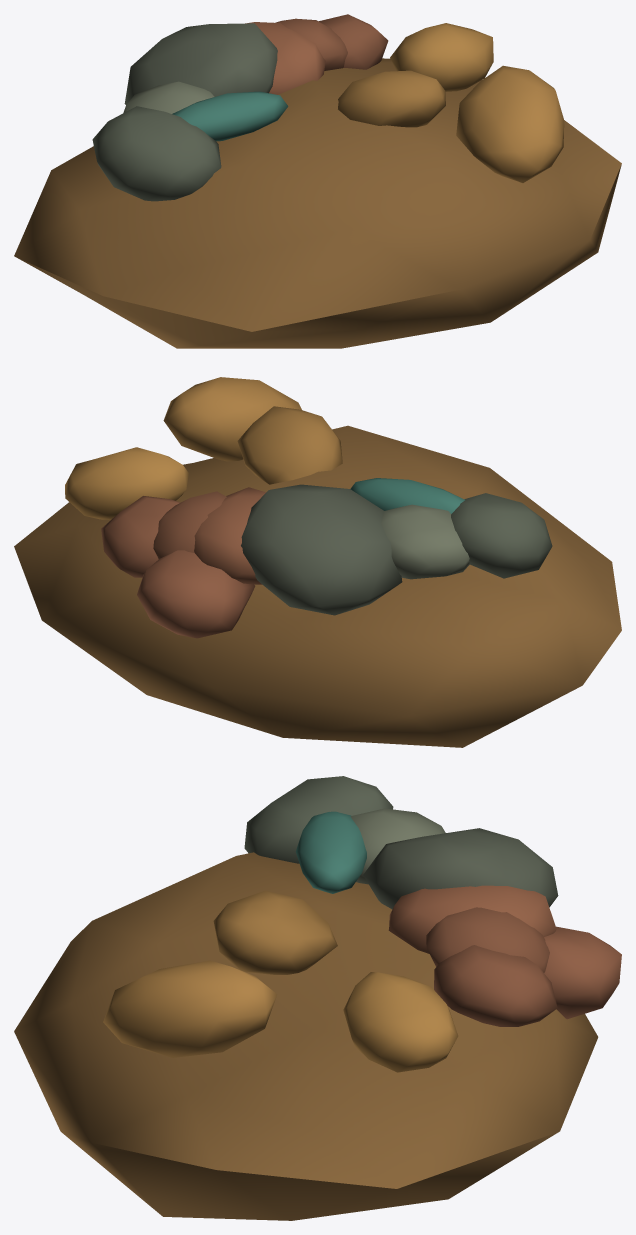
Rendered from ore_heap_b.glb.
3 views of the same model, one above another, from view 1: azimuth 30°, elevation 25°; view 2: azimuth 150°, elevation 25°; view 3: azimuth 270°, elevation 25° (orthographic). The views are drawn at different scales.
Visible parts, largest first — view 1: Surface; view 2: Surface; view 3: Surface.
Part boxes in pixels (x1=…): Surface: x1=14, y1=14, x2=621, y2=348; Surface: x1=14, y1=377, x2=621, y2=747; Surface: x1=14, y1=776, x2=621, y2=1220.
Size of the model in its own units: 2.07 by 0.8638 by 1.67.
